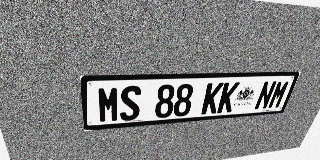8: (154, 84, 177, 118), (172, 84, 195, 117)
K: (216, 82, 240, 113), (201, 83, 224, 115)
M: (97, 86, 119, 123), (267, 80, 291, 109)
N: (253, 81, 277, 110)
S: (120, 85, 141, 121)
